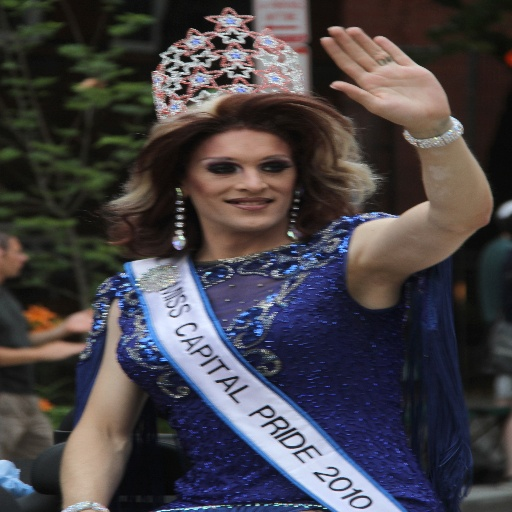hand: (319, 22, 460, 131), (32, 338, 83, 363), (64, 308, 92, 331)
